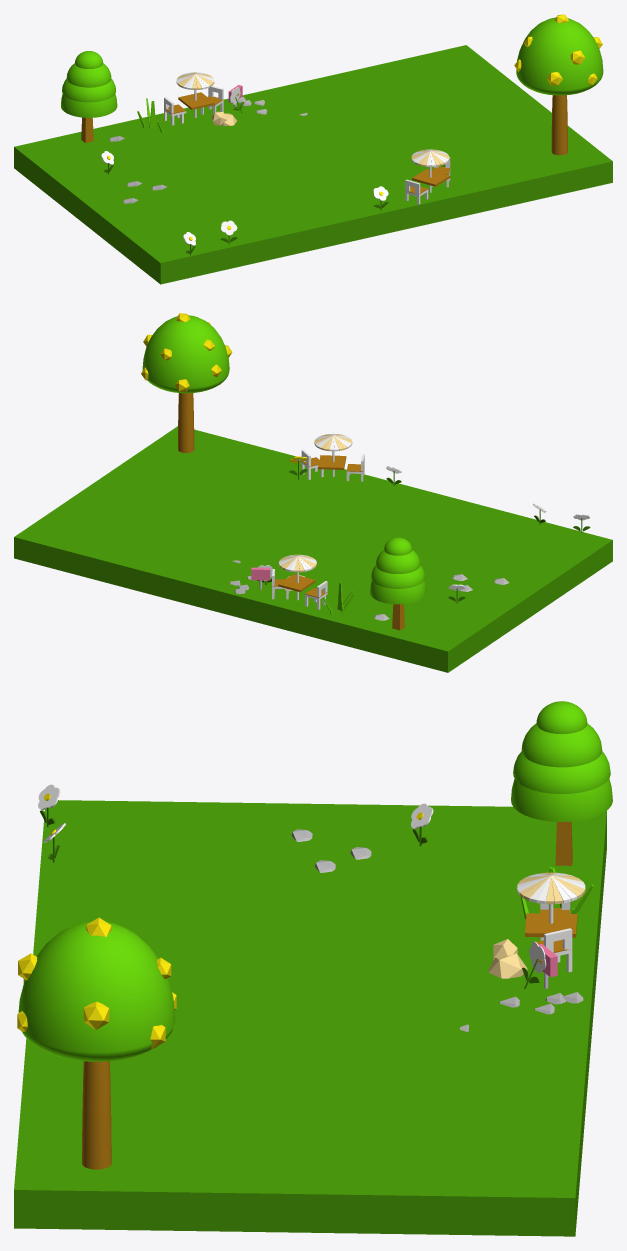
The model's file is sweet_terrace.glb.
The picture shows the model from 3 angles, top to bottom: view 1: azimuth 30°, elevation 25°; view 2: azimuth 150°, elevation 25°; view 3: azimuth 270°, elevation 25°; orthographic projection. The views are drawn at different scales.
Visible parts, largest first — view 1: box.296, hemisphere.006, hemisphere.033, hemisphere.007, hemisphere.031, hemisphere.026, hemisphere.027, hemisphere.028, box.086; view 2: box.296, hemisphere.006, hemisphere.007, hemisphere.001, hemisphere.002, hemisphere.003, hemisphere.031; view 3: box.296, hemisphere.033, hemisphere.006, hemisphere.007, hemisphere.031, hemisphere.026, hemisphere.027, hemisphere.028, hemisphere.002, hemisphere.003, hemisphere.001, hemisphere.032 (+4 smaller).
Boxes of the visible parts, left/top/right/bottom form: box.296: left=14, top=45, right=612, bottom=284; hemisphere.006: left=516, top=17, right=602, bottom=90; hemisphere.033: left=571, top=20, right=603, bottom=85; hemisphere.007: left=552, top=95, right=567, bottom=155; hemisphere.031: left=551, top=95, right=567, bottom=155; hemisphere.026: left=80, top=94, right=117, bottom=117; hemisphere.027: left=81, top=79, right=115, bottom=102; hemisphere.028: left=82, top=63, right=111, bottom=87; box.086: left=178, top=92, right=214, bottom=109; box.296: left=14, top=426, right=612, bottom=672; hemisphere.006: left=142, top=315, right=229, bottom=387; hemisphere.007: left=178, top=393, right=194, bottom=452; hemisphere.001: left=370, top=580, right=426, bottom=604; hemisphere.002: left=371, top=566, right=425, bottom=588; hemisphere.003: left=376, top=550, right=420, bottom=573; hemisphere.031: left=179, top=393, right=194, bottom=452; box.296: left=14, top=800, right=606, bottom=1236; hemisphere.033: left=18, top=933, right=167, bottom=1052; hemisphere.006: left=19, top=921, right=175, bottom=1049; hemisphere.007: left=82, top=1061, right=111, bottom=1169; hemisphere.031: left=82, top=1061, right=109, bottom=1169; hemisphere.026: left=511, top=778, right=586, bottom=821; hemisphere.027: left=513, top=751, right=600, bottom=793; hemisphere.028: left=521, top=723, right=590, bottom=767; hemisphere.002: left=559, top=751, right=610, bottom=793; hemisphere.003: left=547, top=723, right=602, bottom=766; hemisphere.001: left=560, top=778, right=612, bottom=821; hemisphere.032: left=21, top=1031, right=167, bottom=1061.
Size of the model in its own units: 41.15 by 13.59 by 26.08.
